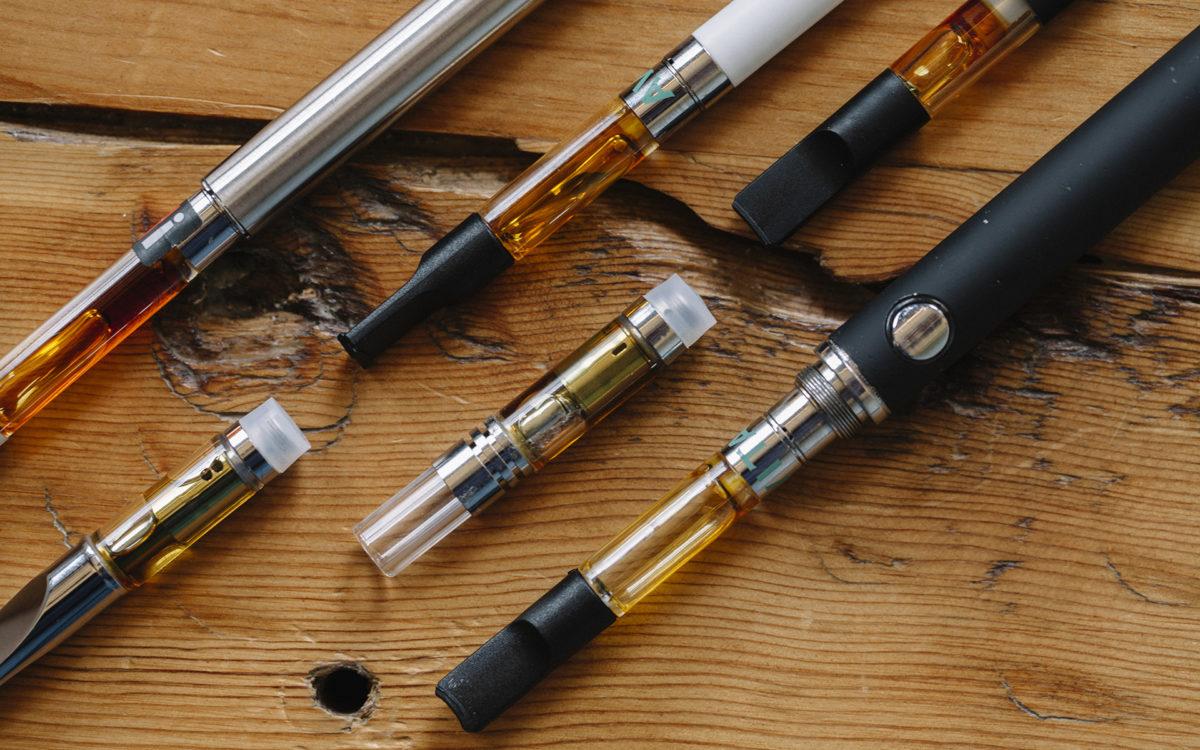weed_pen: (3, 31, 437, 479)
